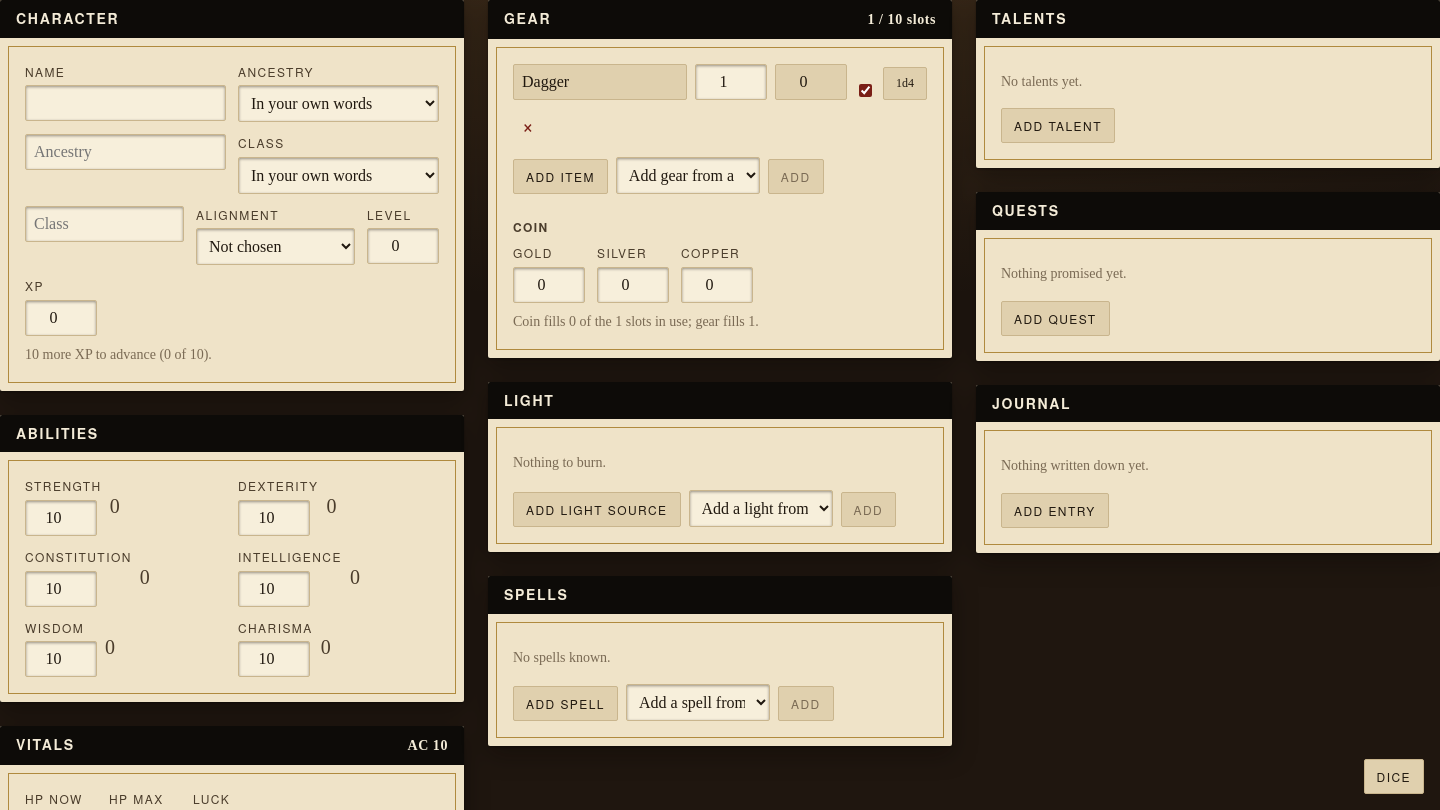
Test: a weapon rolled from the sheet › rolls the dice the pack says it deals
Click the button "1d4".
click(905, 83)  # box [883, 67, 927, 100]
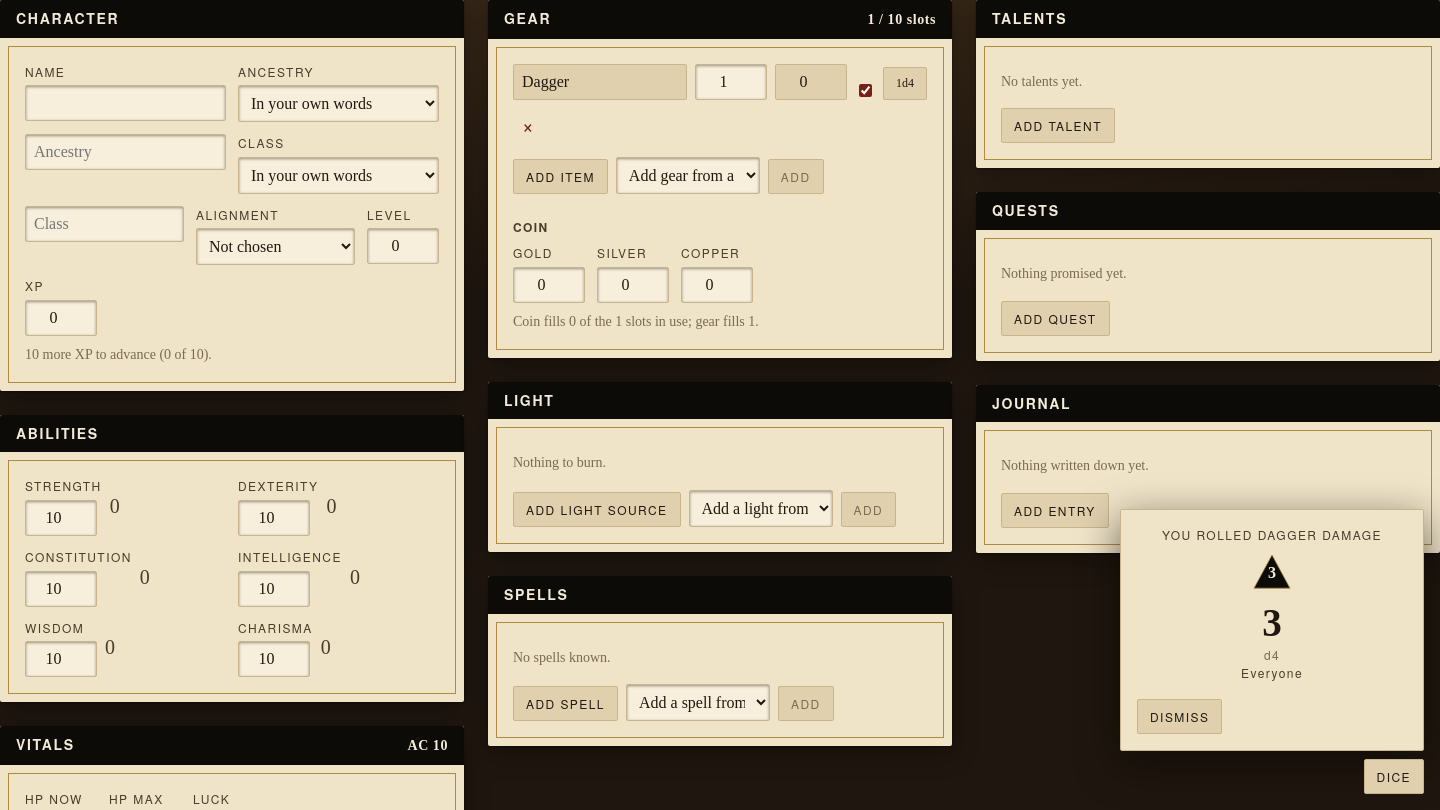
Expected: the element with class "dice__total" reads "3", [1262, 601, 1282, 644]
Expected: the text with class "dice__who" reads "You rolled Dagger damage", [1162, 526, 1382, 543]
